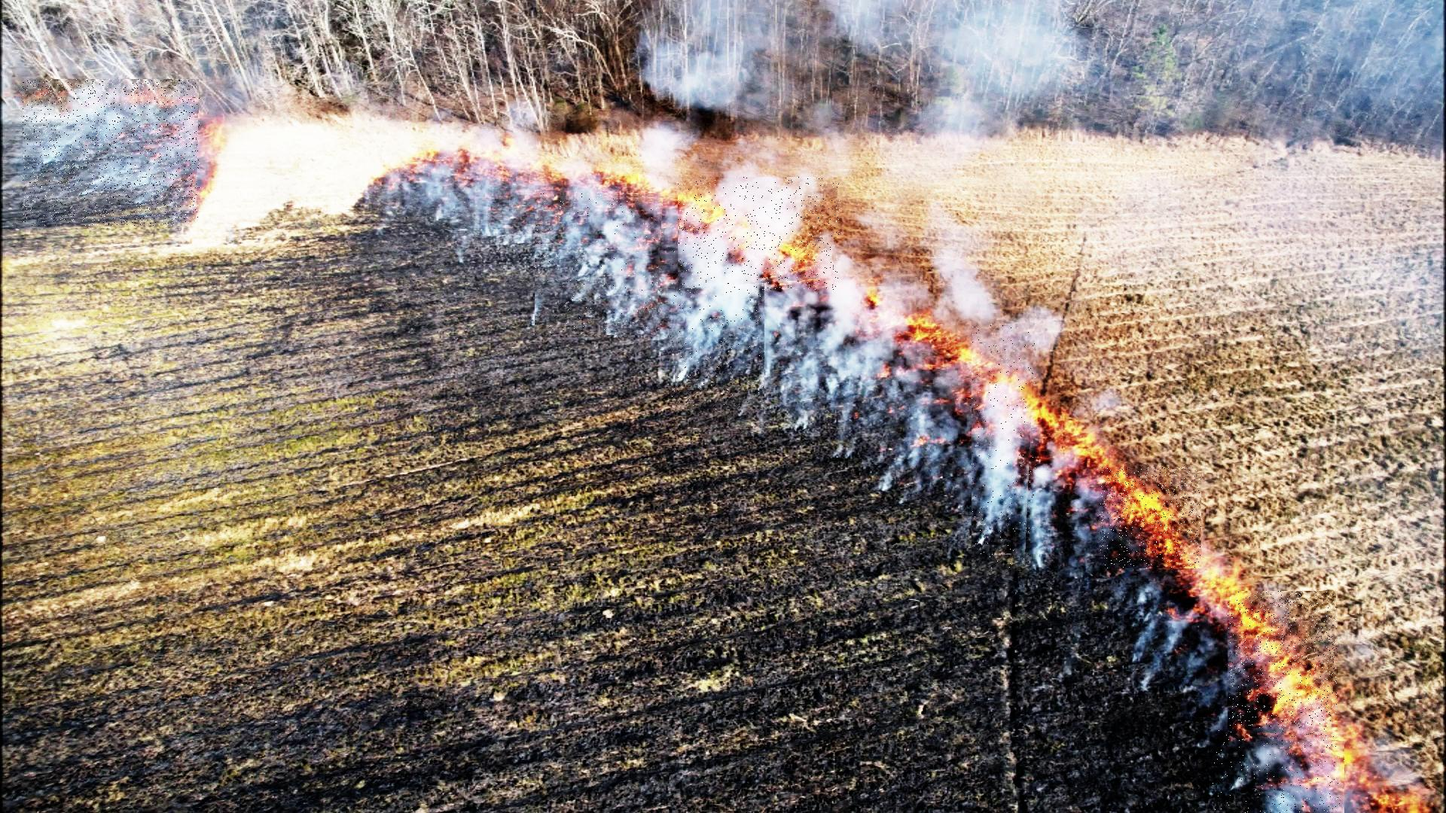fire: (678, 177, 840, 290), (1228, 591, 1337, 749), (1100, 467, 1201, 568)
smoke: (23, 79, 200, 226), (535, 192, 663, 335), (670, 226, 764, 410), (972, 324, 1036, 572), (1213, 726, 1344, 813)
